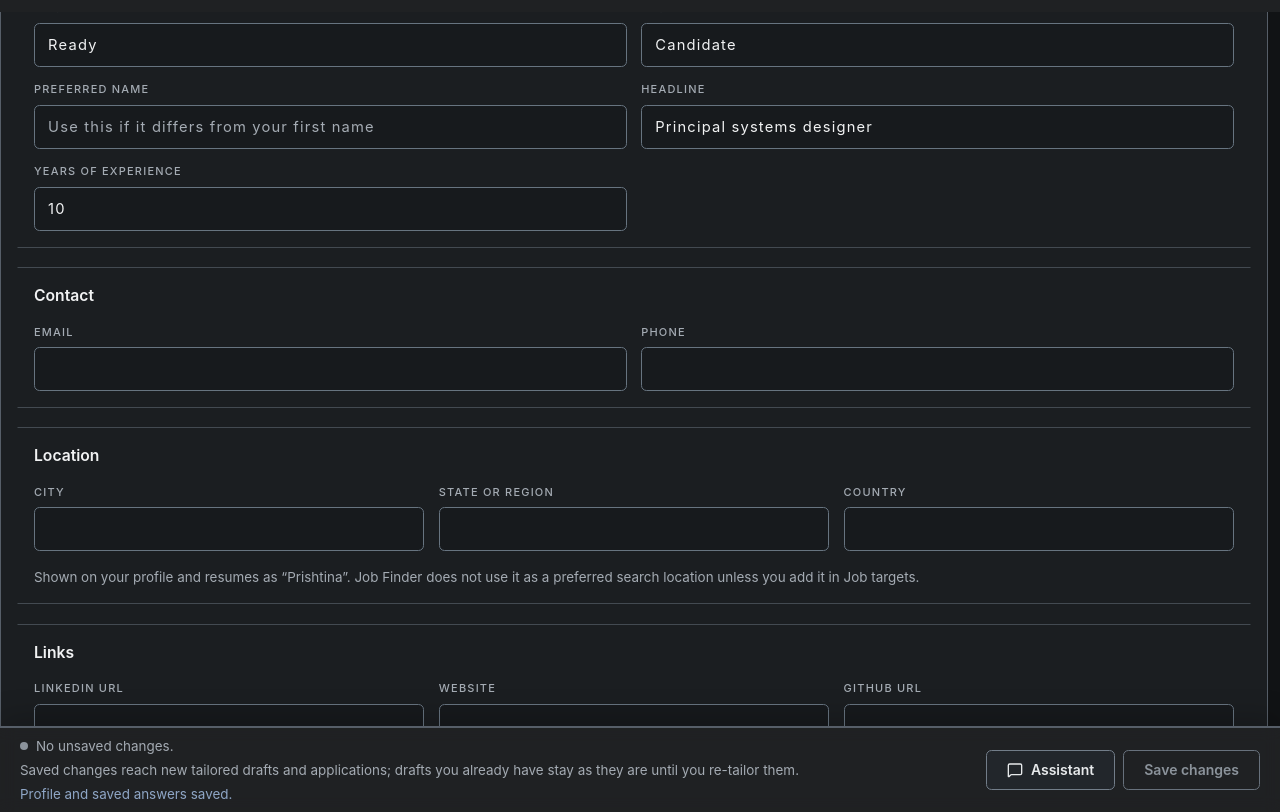
it: ProfileScreen ready-state density and save-bar footprint › keeps malformed email edits local and replaces stale success feedback with validation
(page scrolled)
In the field labelled "Email": (330, 369) top-left (34, 347), bottom-right (627, 391), type "not-an-email"
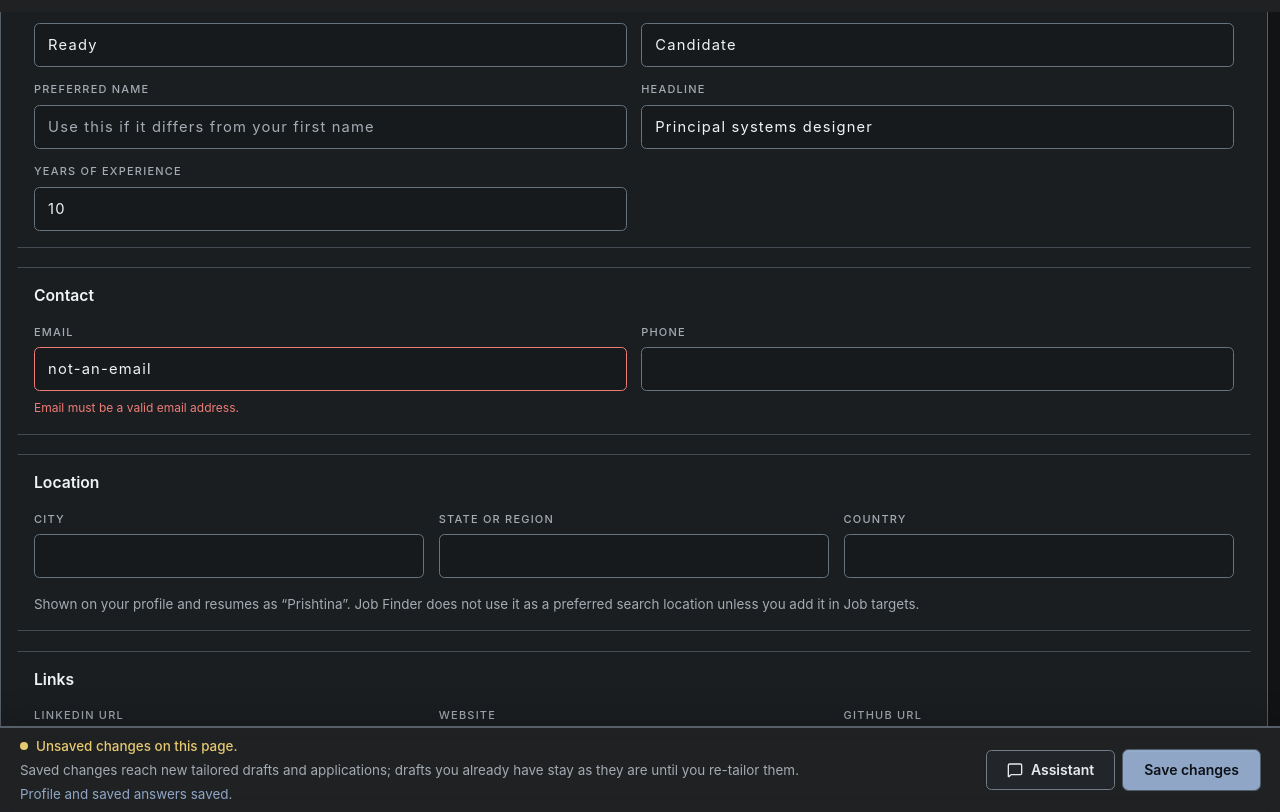
Now the field labelled "Email" is marked as invalid, box top-left (34, 347), bottom-right (627, 391)
Click the button "Save changes": (1192, 770) top-left (1123, 750), bottom-right (1260, 790)
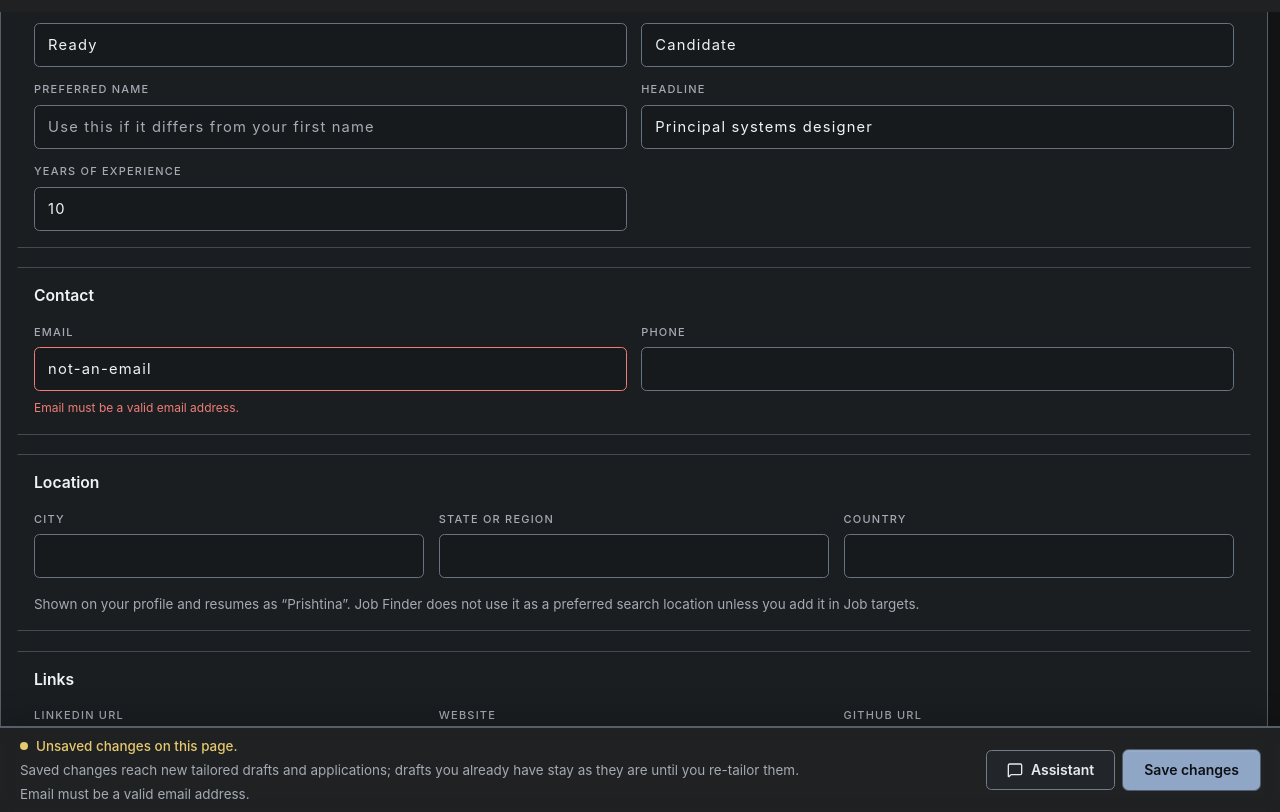
Now the text "Profile and saved answers saved." is gone
